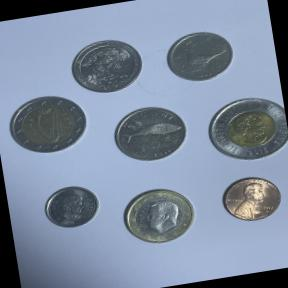1 Euro-B: (114, 180, 206, 254)
2 Euro-B: (3, 86, 92, 160)
Canada-10cent-B: (38, 179, 106, 236)
Canada-2Dollar-B: (196, 87, 288, 173)
Croatia-2Kune-B: (105, 96, 193, 171)
US-1cent-B: (213, 168, 288, 230)
US-25cent-B: (65, 30, 152, 100)
